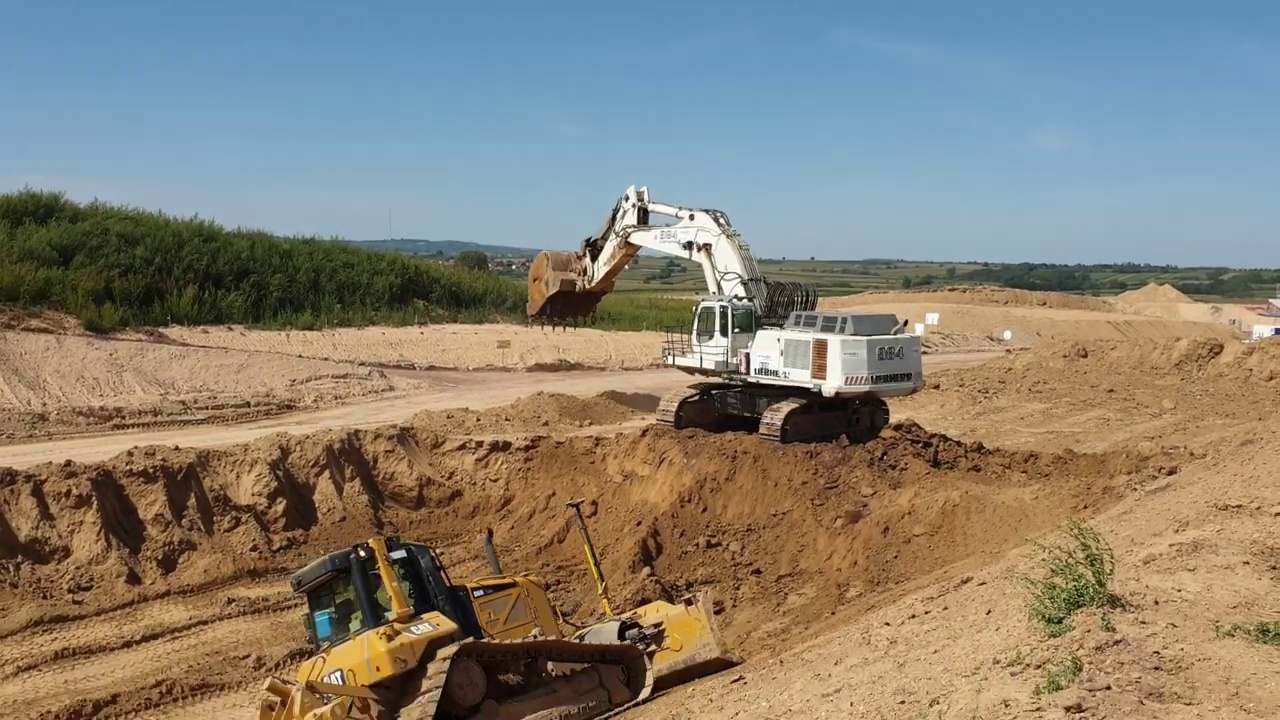bulldozer: (254, 493, 740, 720)
excavator: (522, 178, 930, 448)
